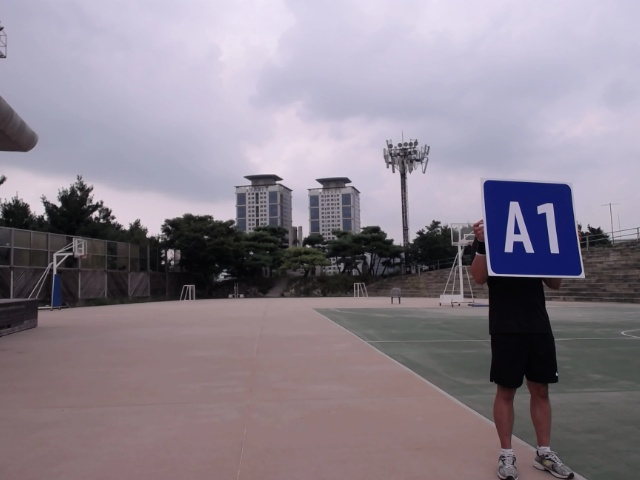delivery_a1: (483, 180, 584, 279)
